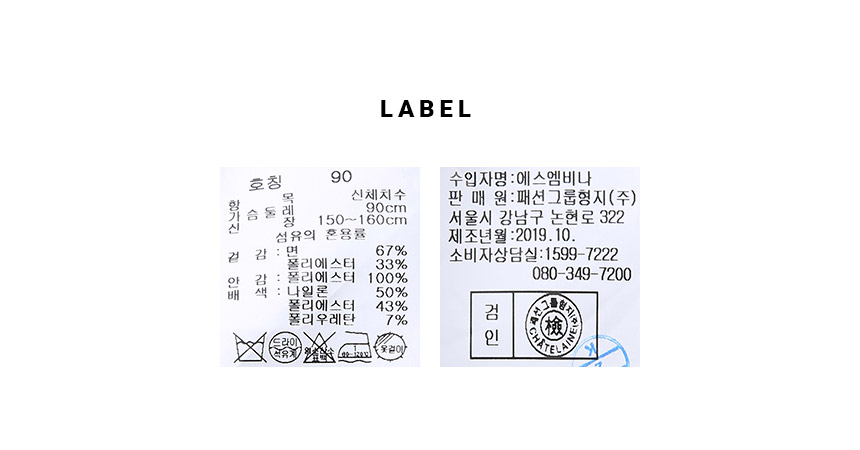KR_dry_clean_petroleum: (268, 330, 303, 364)
KR_hang_dry_in_shade: (374, 329, 407, 363)
KR_iron_low_temp_with_cloth: (337, 328, 374, 362)
KR_no_bleach: (302, 328, 338, 366)
KR_no_wash: (233, 330, 267, 365)
